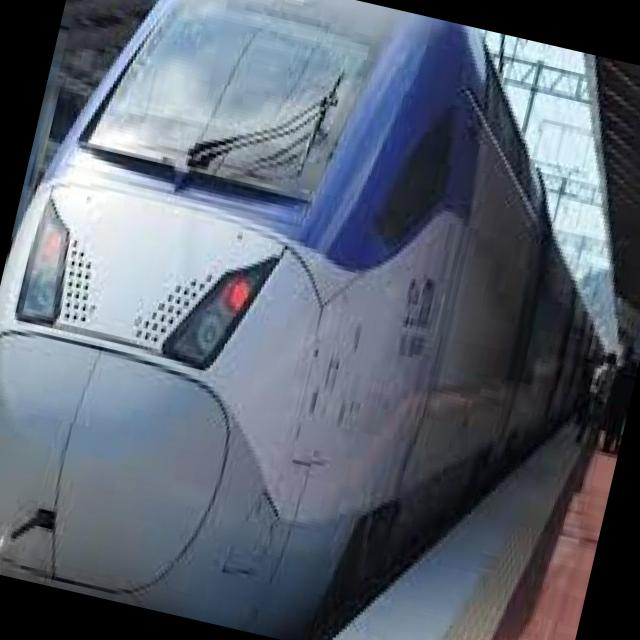trains: (0, 0, 593, 635)
